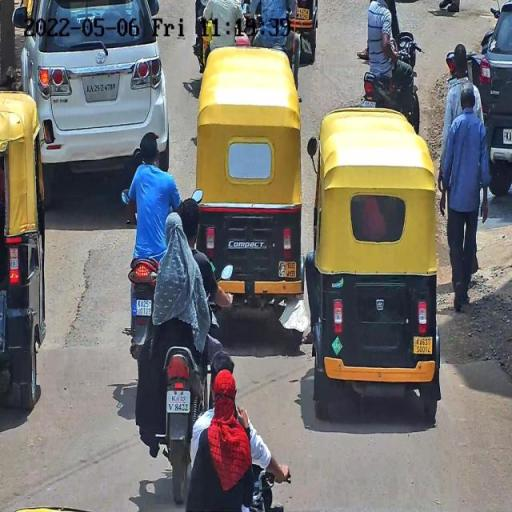numberplate: (132, 298, 152, 318)
using mobile: (140, 154, 151, 169)
